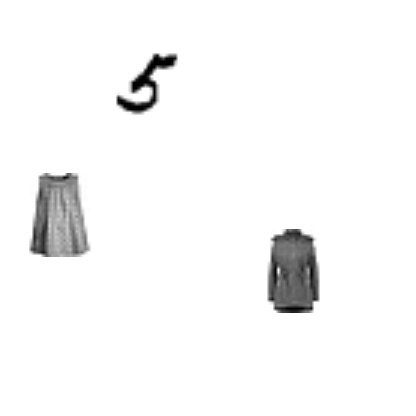5: (102, 42, 186, 126)
Coat: (250, 229, 334, 313)
Dress: (18, 173, 102, 257)
